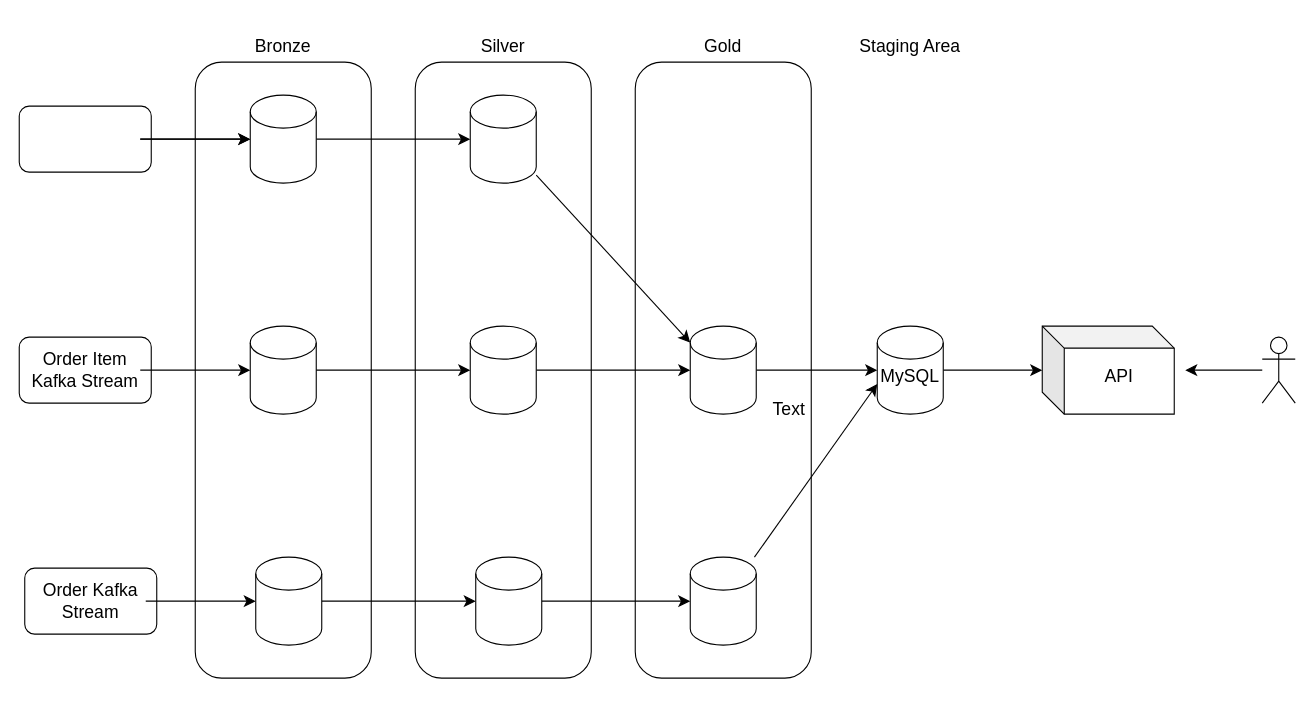
This 1315x708 diagram has some shape labels left out. The shapes that lost their labels are listed below. From the top down, each one's centre as x and y in pixels, then its label:
At (x=84, y=138): "Event Kafka Stream".
At (x=1278, y=369): "Actor".
